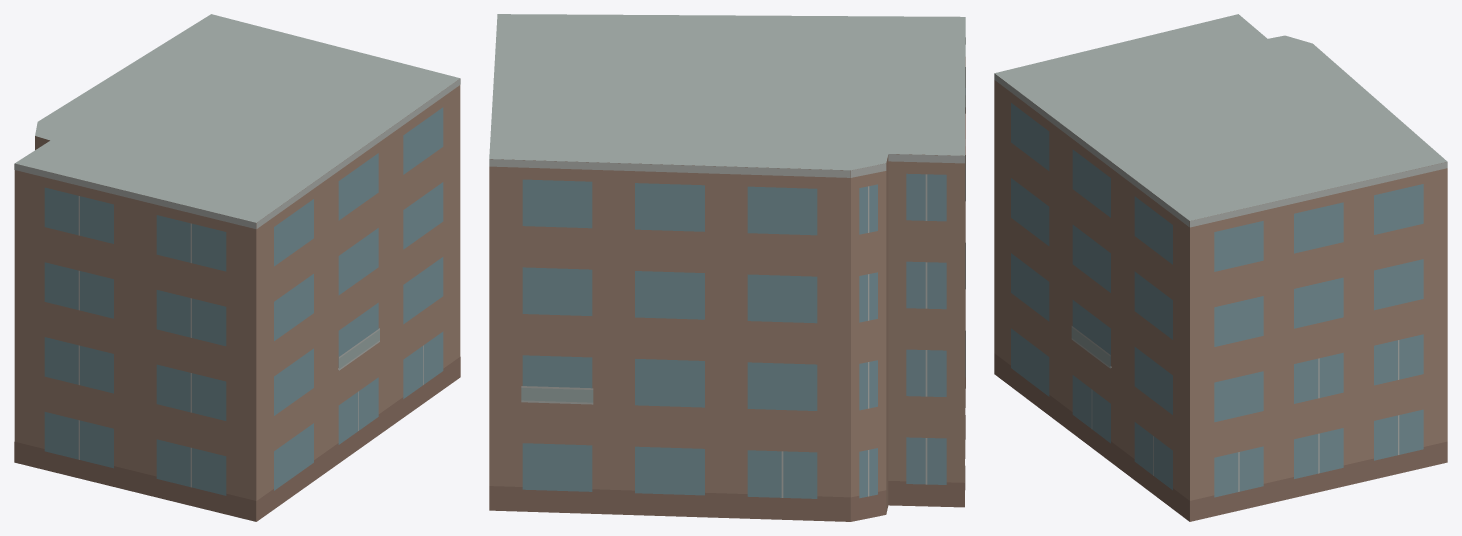
The model's file is survey-upis-32781427.glb.
3 renders of one model, left to right at view 1: azimuth 30°, elevation 25°; view 2: azimuth 150°, elevation 25°; view 3: azimuth 270°, elevation 25°, orthographic. The views are drawn at different scales.
Parts seen in each view (by area): view 1: survey-upis-32781427.tmp; view 2: survey-upis-32781427.tmp; view 3: survey-upis-32781427.tmp.
Part boxes in pixels (x1=…): survey-upis-32781427.tmp: x1=14, y1=14, x2=460, y2=521; survey-upis-32781427.tmp: x1=489, y1=14, x2=965, y2=521; survey-upis-32781427.tmp: x1=994, y1=14, x2=1447, y2=521.
Bounding box in the file's own units: 16.69 × 11.3 × 15.44.
